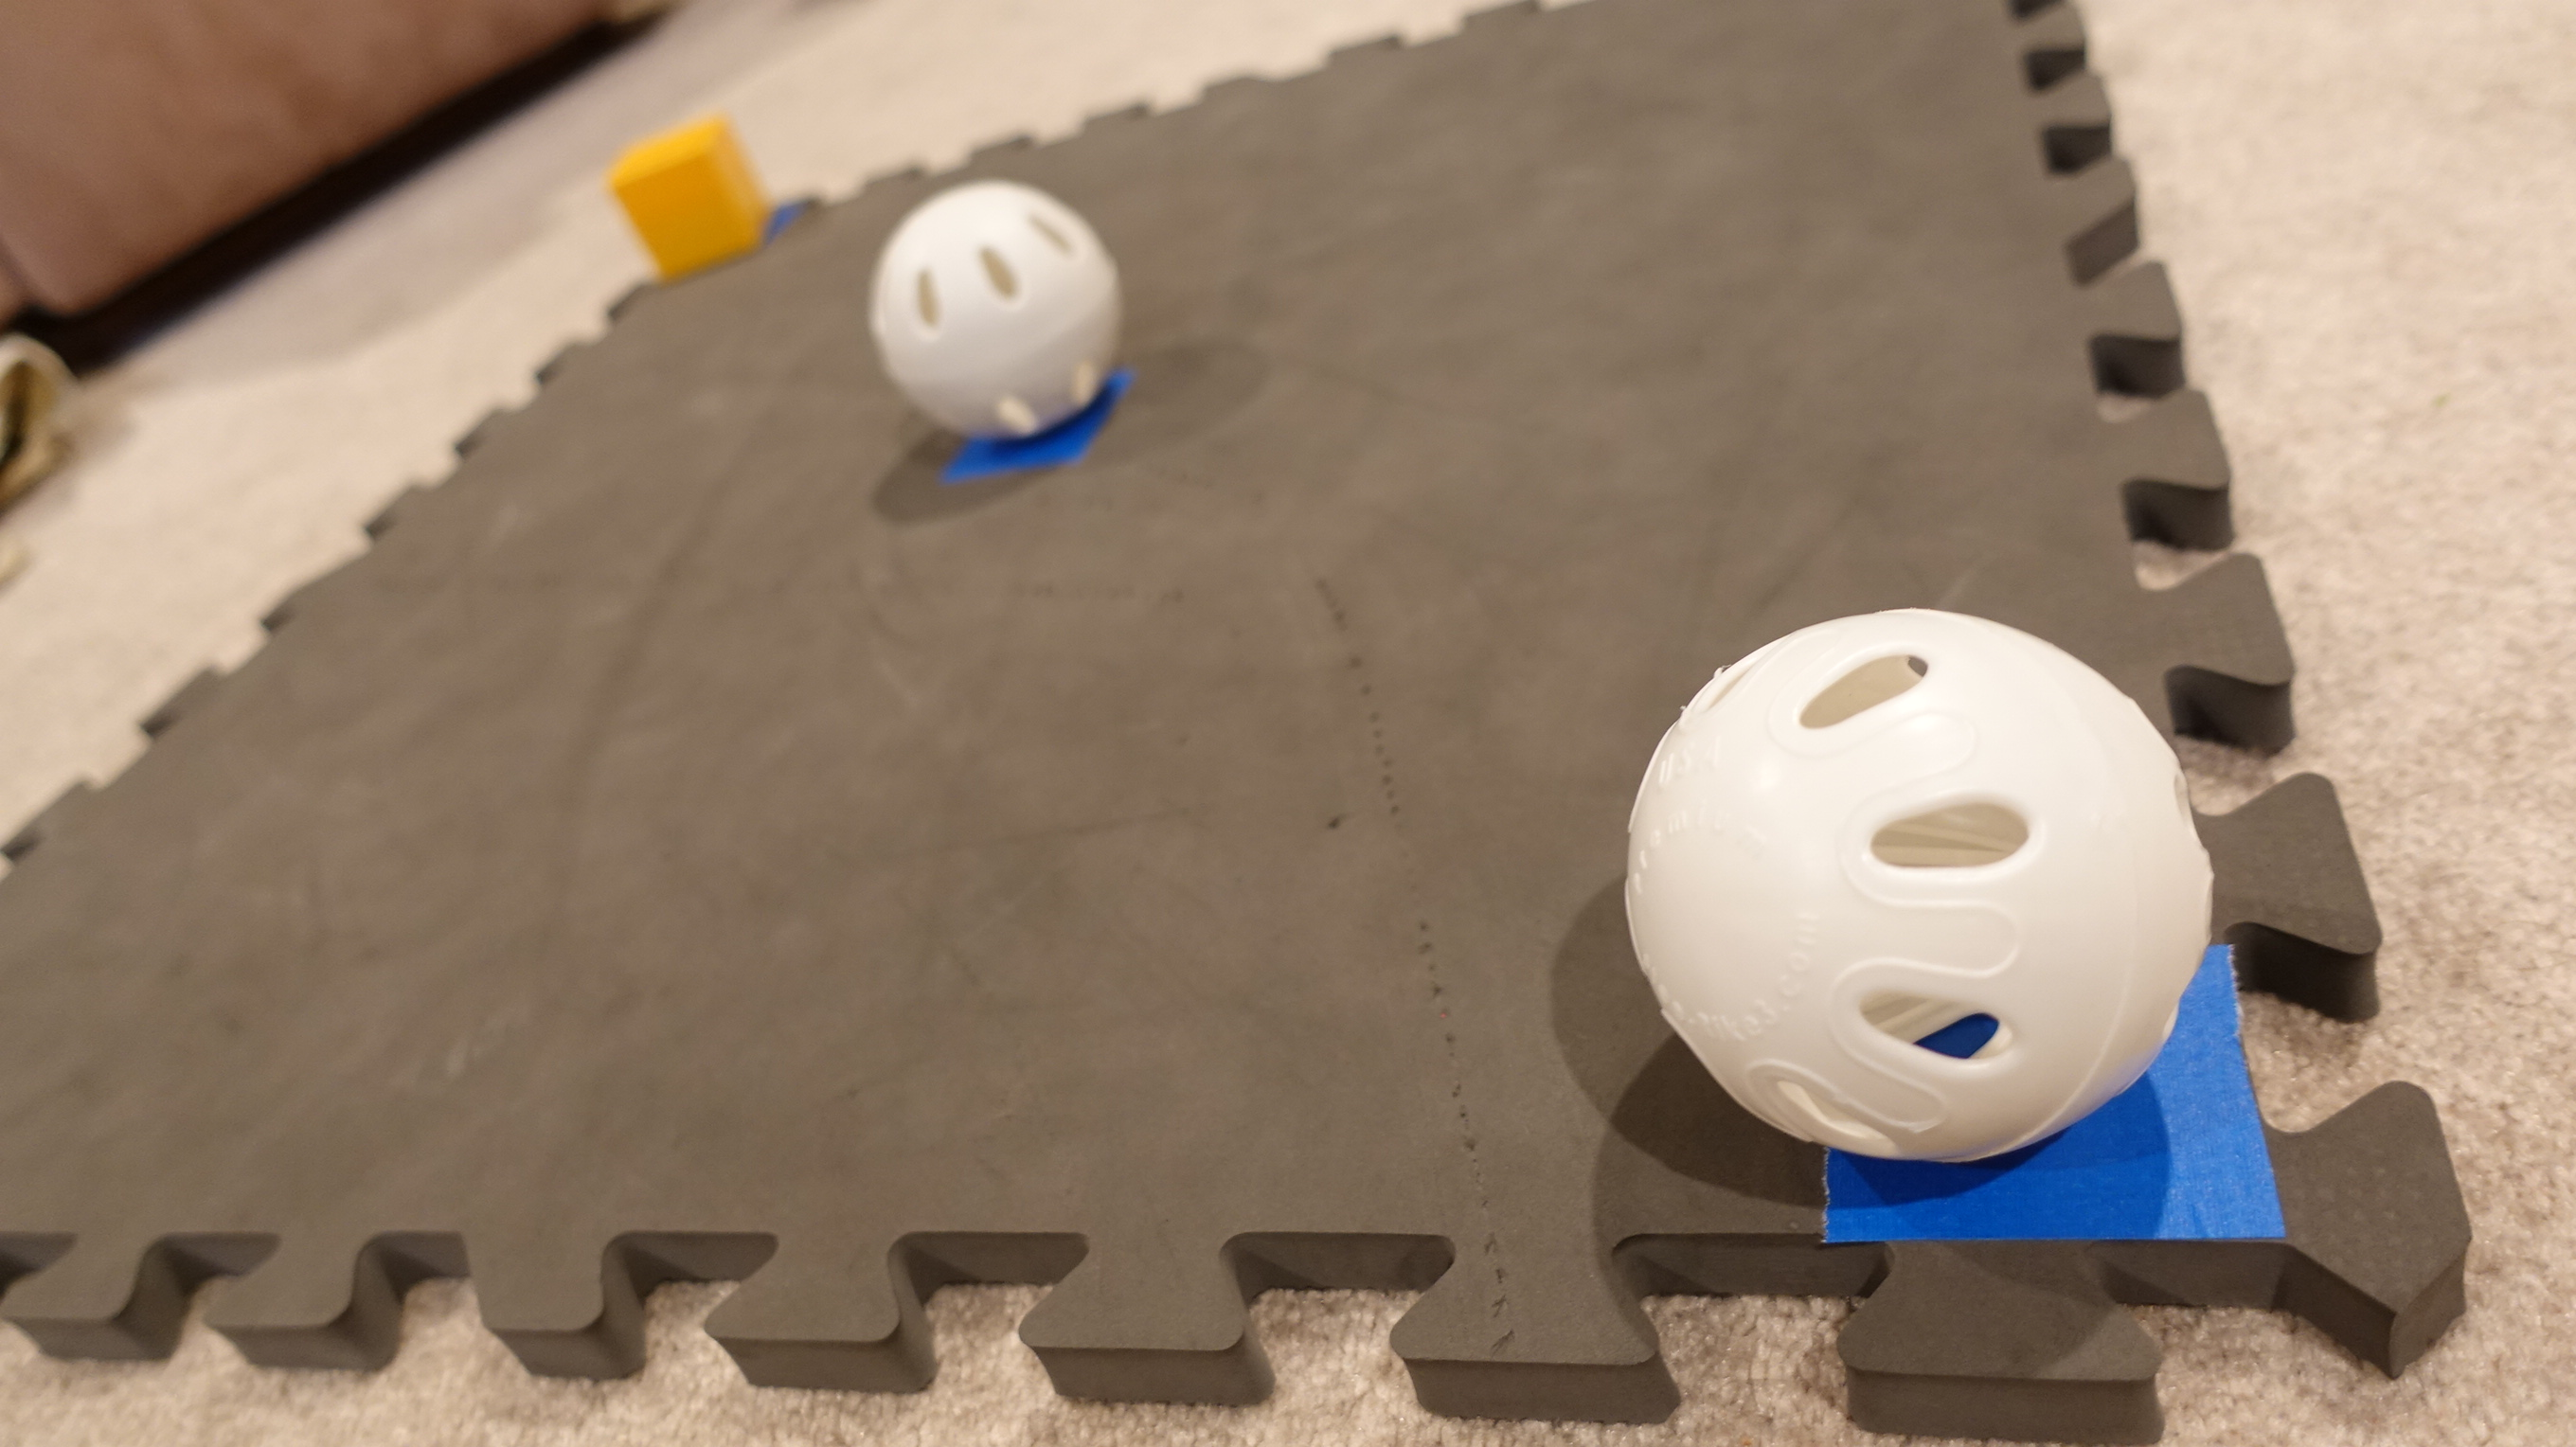gold: (600, 113, 773, 283)
silver: (1617, 601, 2220, 1168), (865, 177, 1122, 439)
